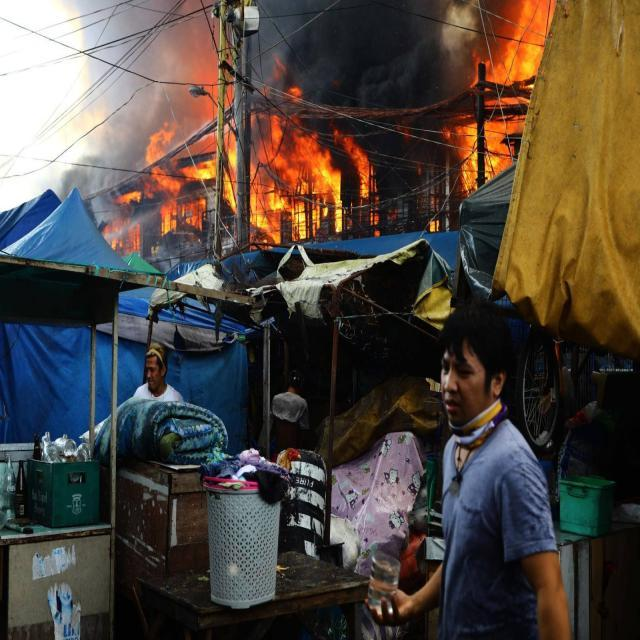Fire: (245, 109, 371, 242), (146, 128, 237, 238), (469, 0, 550, 91), (453, 105, 518, 188), (97, 190, 143, 254)
Smoke: (370, 0, 446, 191), (282, 4, 366, 98)
